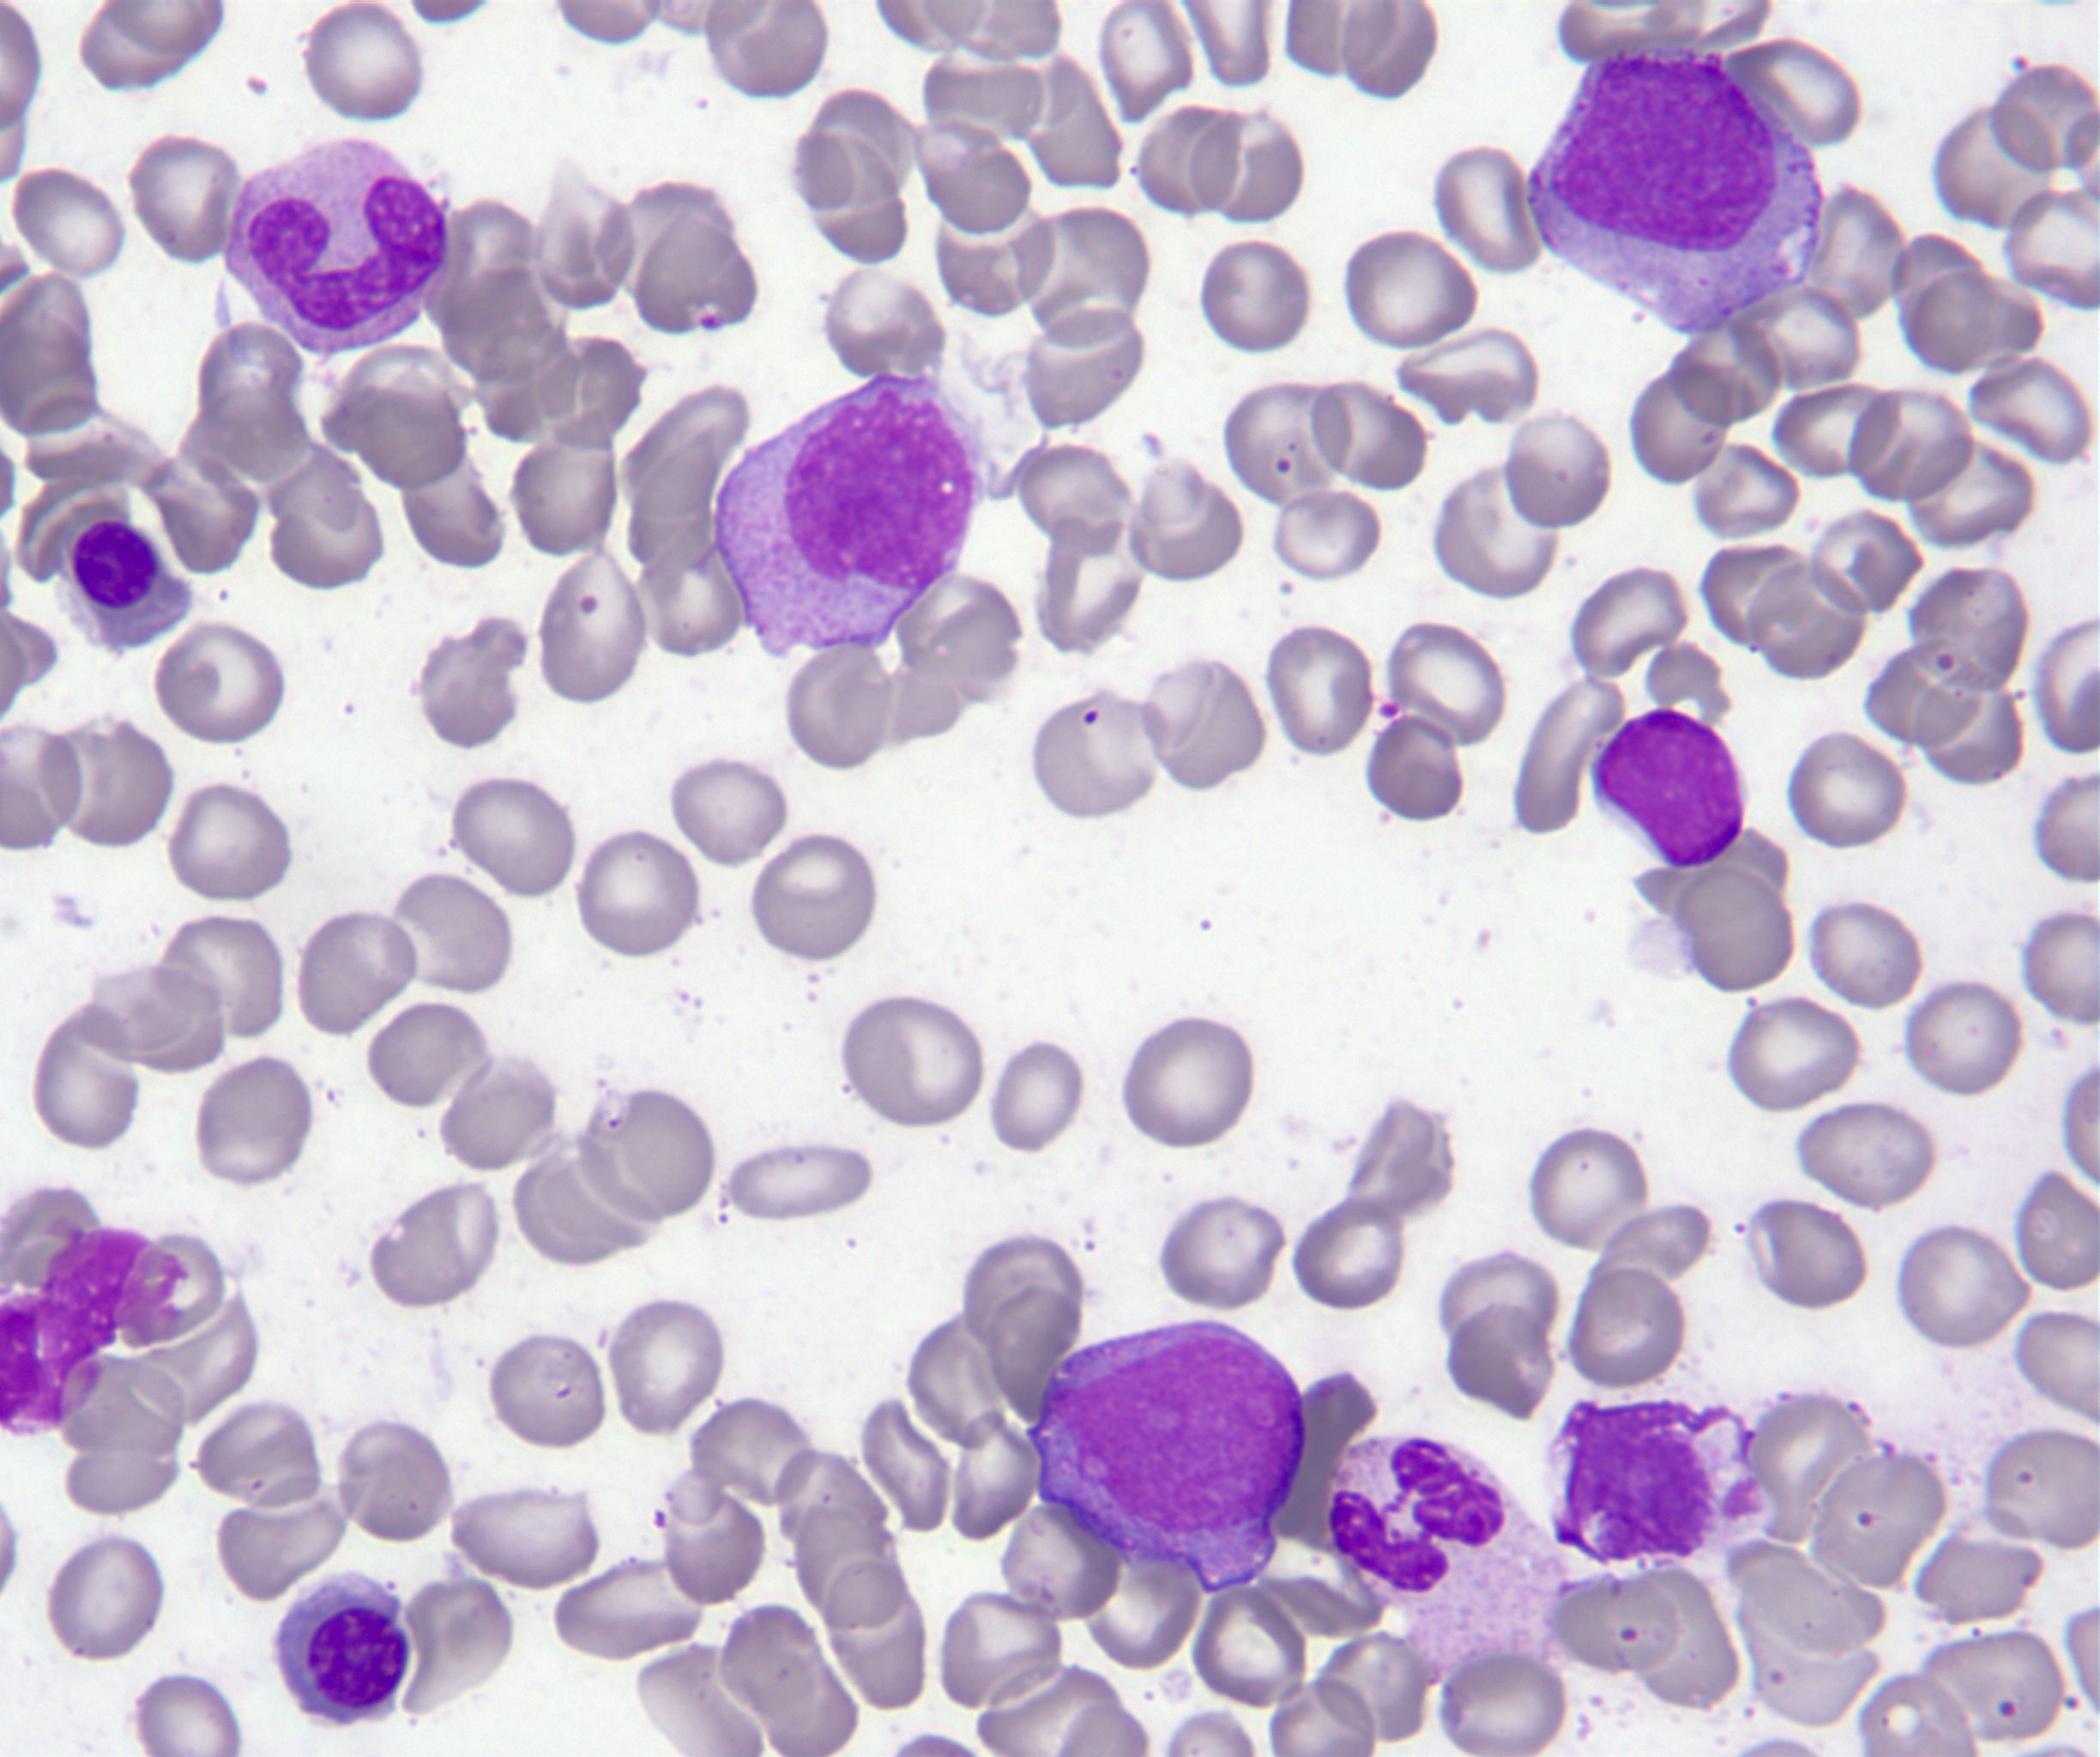1: (1029, 1323, 1306, 1593)
23: (276, 1574, 410, 1724)
3: (1528, 49, 1823, 328)
32: (1592, 708, 1744, 865)
42: (715, 373, 982, 653)
5: (225, 141, 448, 352)
6: (1324, 1439, 1568, 1684)
x: (1552, 1401, 1758, 1563), (65, 520, 190, 653), (40, 1230, 188, 1333), (0, 1296, 101, 1436)
